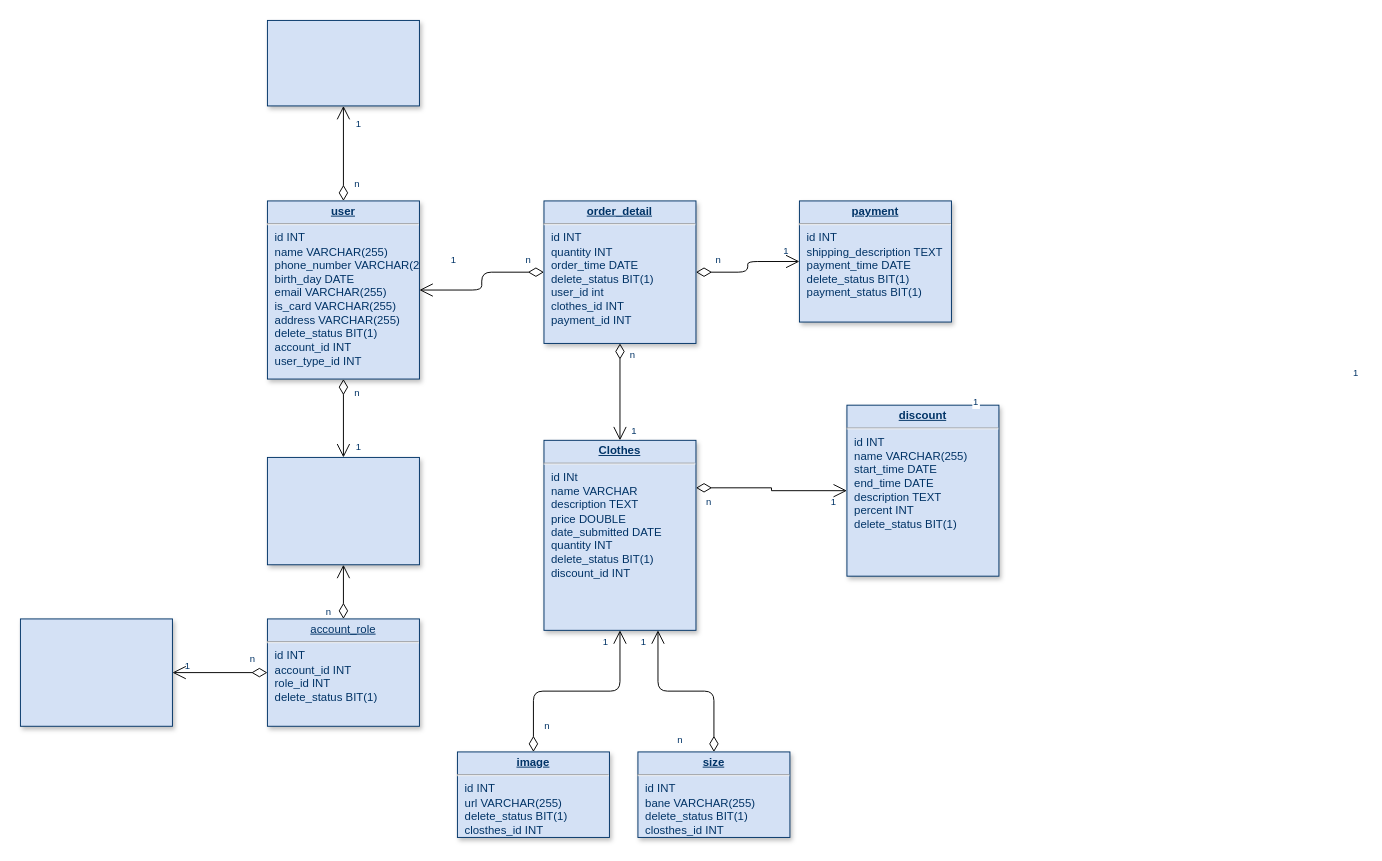
Some shapes in this 1382 by 861 pixel diagram are drawn without their labels. Each missing label, with the centre of its shape:
"account id INT username VARCHAR(255) password VARCHAR(255) delete_status BIT(1)" belongs at point 344,512.
"role id INT name VARCHAR(255) delete_status BIT(1)" belongs at point 97,673.
"user_type id INT name VARCHAR(255) delete_status BIT(1)" belongs at point 344,64.
